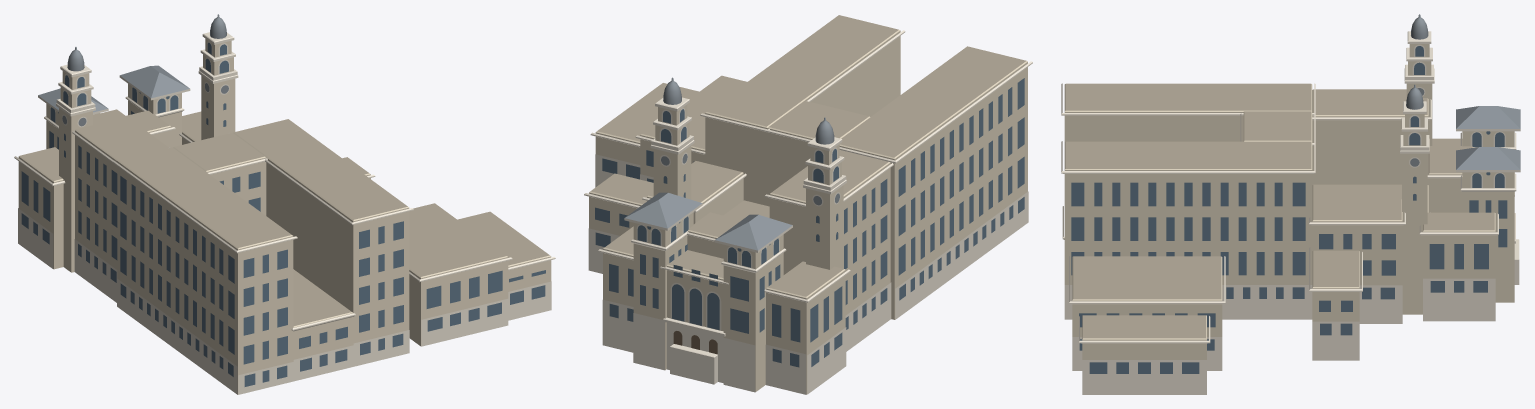
Rendered from ric-jefferson-hotel.glb.
The picture shows the model from 3 angles, left to right: view 1: azimuth 30°, elevation 25°; view 2: azimuth 150°, elevation 25°; view 3: azimuth 270°, elevation 25°; orthographic projection. The views are drawn at different scales.
Parts seen in each view (by area): view 1: The Jefferson Hotel; view 2: The Jefferson Hotel; view 3: The Jefferson Hotel.
Part boxes in pixels (bbox=[...]): The Jefferson Hotel: bbox=[14, 14, 555, 394]; The Jefferson Hotel: bbox=[584, 15, 1032, 394]; The Jefferson Hotel: bbox=[1061, 14, 1520, 394].
Bounding box in the file's own units: 84.2 × 52.3 × 96.8.
